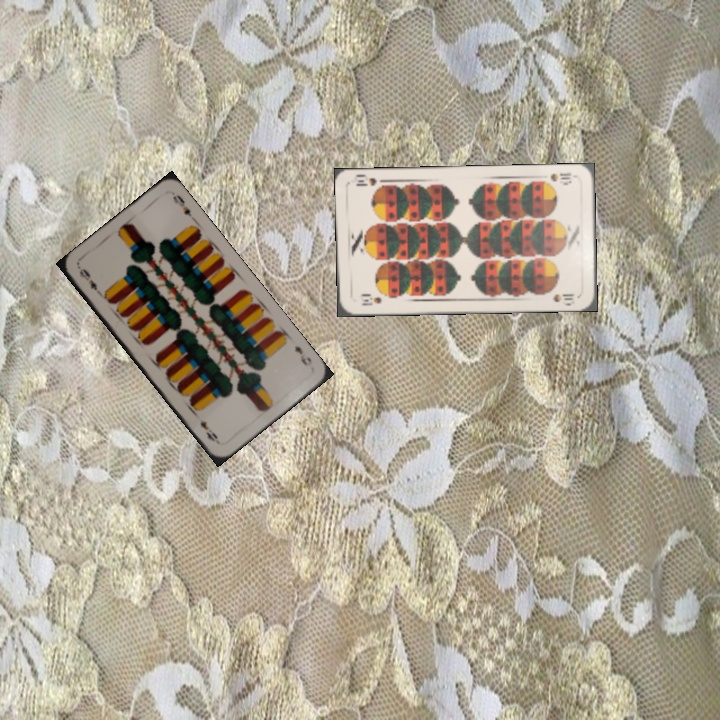E9: (75, 264, 105, 298), (290, 342, 315, 369)
S10: (546, 169, 574, 186), (357, 292, 384, 308)
